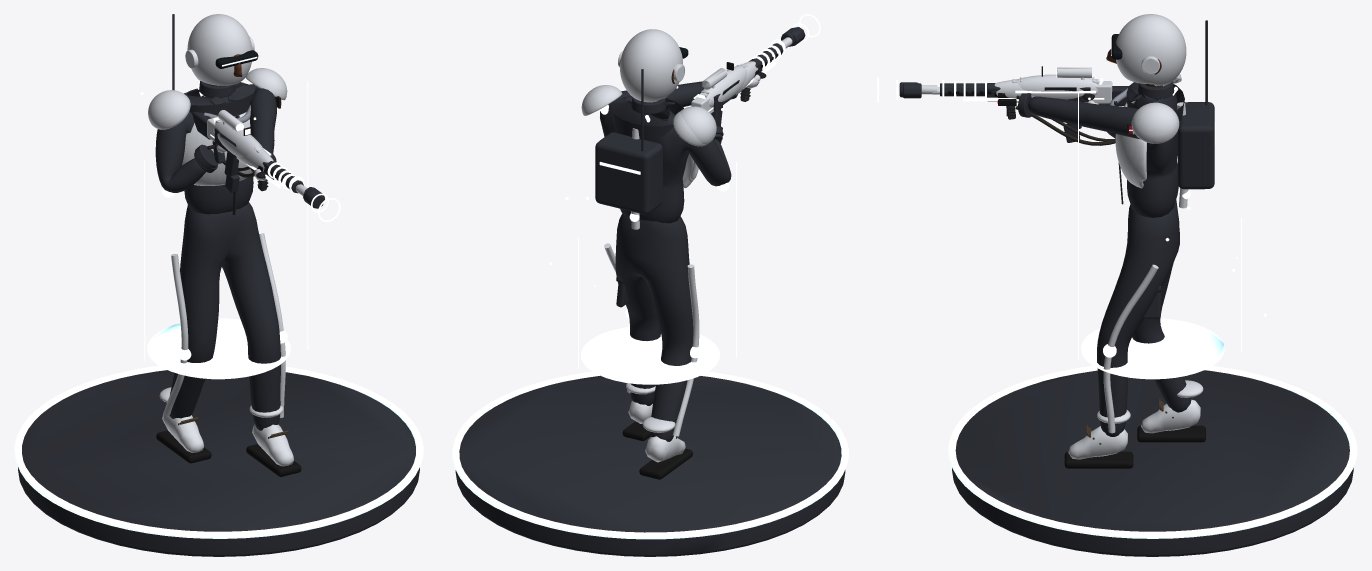
The model's file is vagt_krom.glb.
The picture shows the model from 3 angles, left to right: view 1: azimuth 30°, elevation 25°; view 2: azimuth 150°, elevation 25°; view 3: azimuth 270°, elevation 25°; orthographic projection. The views are drawn at different scales.
Visible parts, largest first — view 1: fod_net, menneske_net, overkrop_net, op4.002_net, hoved_net, op4.003_net, op2.001_net, vaaben_net, op3.001_net, op2_net, op4_net; view 2: fod_net, menneske_net, overkrop_net, op4.002_net, op4.001_net, hoved_net, op4.003_net, op3.001_net, op2.001_net, op2_net, vaaben_net, op4_net; view 3: fod_net, menneske_net, overkrop_net, op4.002_net, hoved_net, op2.001_net, ned4_net, op2_net, op4.001_net, vaaben_net, op4.003_net, op1.001_net (+2 smaller).
Part boxes in pixels (x1,y1,x2,y2): fod_net: (14, 365, 423, 556); menneske_net: (156, 202, 301, 476); overkrop_net: (155, 80, 281, 215); op4.002_net: (140, 81, 308, 379); hoved_net: (185, 14, 258, 85); op4.003_net: (163, 233, 287, 417); op2.001_net: (182, 68, 287, 185); vaaben_net: (192, 112, 307, 195); op3.001_net: (148, 14, 189, 129); op2_net: (213, 121, 268, 192); op4_net: (197, 84, 340, 221); fod_net: (452, 371, 848, 556); menneske_net: (615, 213, 693, 479); overkrop_net: (600, 72, 766, 223); op4.002_net: (549, 86, 736, 384); op4.001_net: (595, 105, 729, 229); hoved_net: (618, 29, 688, 102); op4.003_net: (604, 243, 701, 436); op3.001_net: (641, 69, 716, 151); op2.001_net: (581, 85, 698, 188); op2_net: (700, 62, 750, 143); vaaben_net: (691, 37, 792, 126); op4_net: (645, 14, 820, 122); fod_net: (948, 365, 1357, 556); menneske_net: (1064, 200, 1205, 468); overkrop_net: (1016, 81, 1184, 217); op4.002_net: (1078, 92, 1266, 379); hoved_net: (1106, 14, 1186, 86); op2.001_net: (1109, 88, 1179, 188); ned4_net: (1178, 102, 1205, 189); op2_net: (997, 66, 1099, 142); op4.001_net: (1177, 102, 1215, 208); vaaben_net: (921, 77, 1160, 129); op4.003_net: (1103, 264, 1158, 433); op1.001_net: (937, 67, 1115, 145).
Size of the model in its own units: 1.94 by 2.38 by 2.27.
